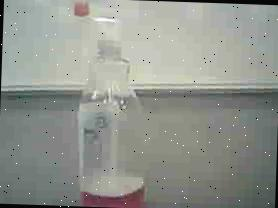hazard: (60, 0, 159, 208)
